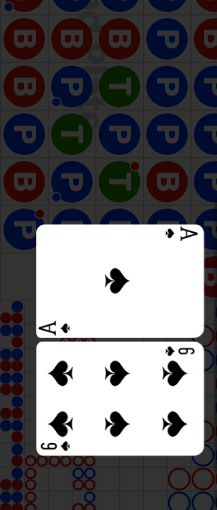6S: (40, 439, 73, 452)
AS: (162, 226, 199, 243)
